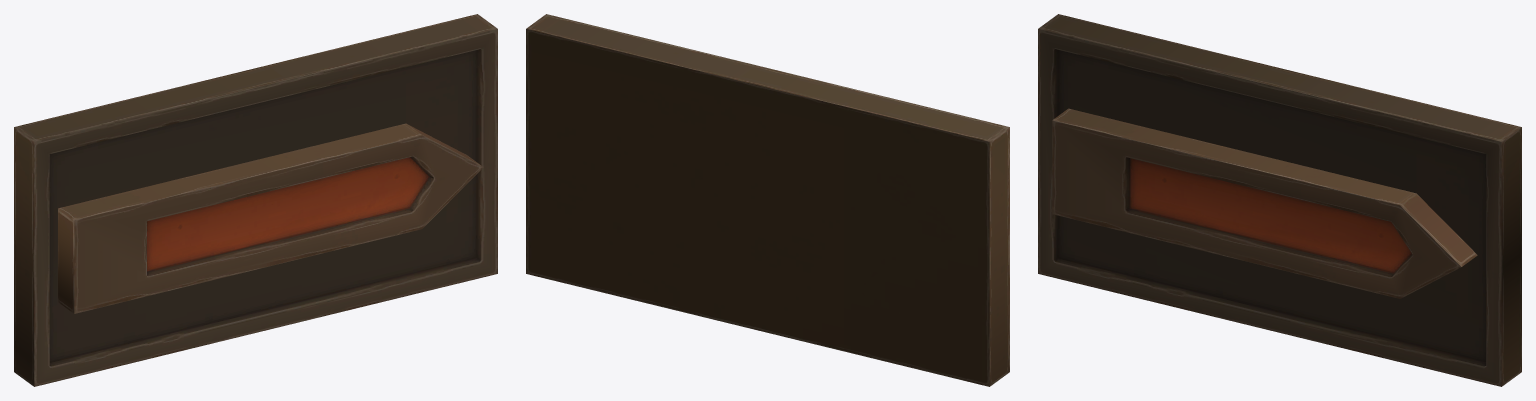
The model's file is SM_SignBoard_01_D.glb.
3 renders of one model, left to right at view 1: azimuth 30°, elevation 25°; view 2: azimuth 150°, elevation 25°; view 3: azimuth 330°, elevation 25°, orthographic.
Parts seen in each view (by area): view 1: SM_SignBoard_01_D; view 2: SM_SignBoard_01_D; view 3: SM_SignBoard_01_D.
Part boxes in pixels (x1,y1,x2,y2): SM_SignBoard_01_D: [14, 14, 497, 386]; SM_SignBoard_01_D: [526, 14, 1009, 386]; SM_SignBoard_01_D: [1038, 14, 1521, 386].
Size of the model in its own units: 1.39 by 0.7009 by 0.1719.
Materials: 1 (1 with a texture image).
